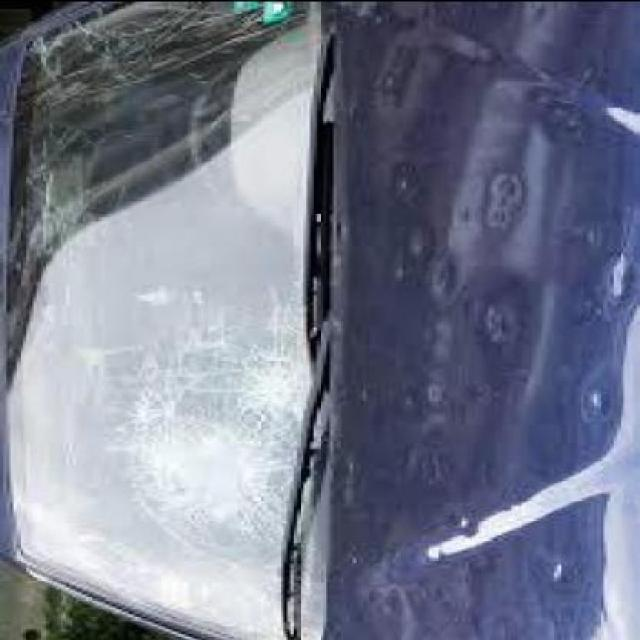damage: (383, 34, 638, 590), (122, 310, 317, 548)
